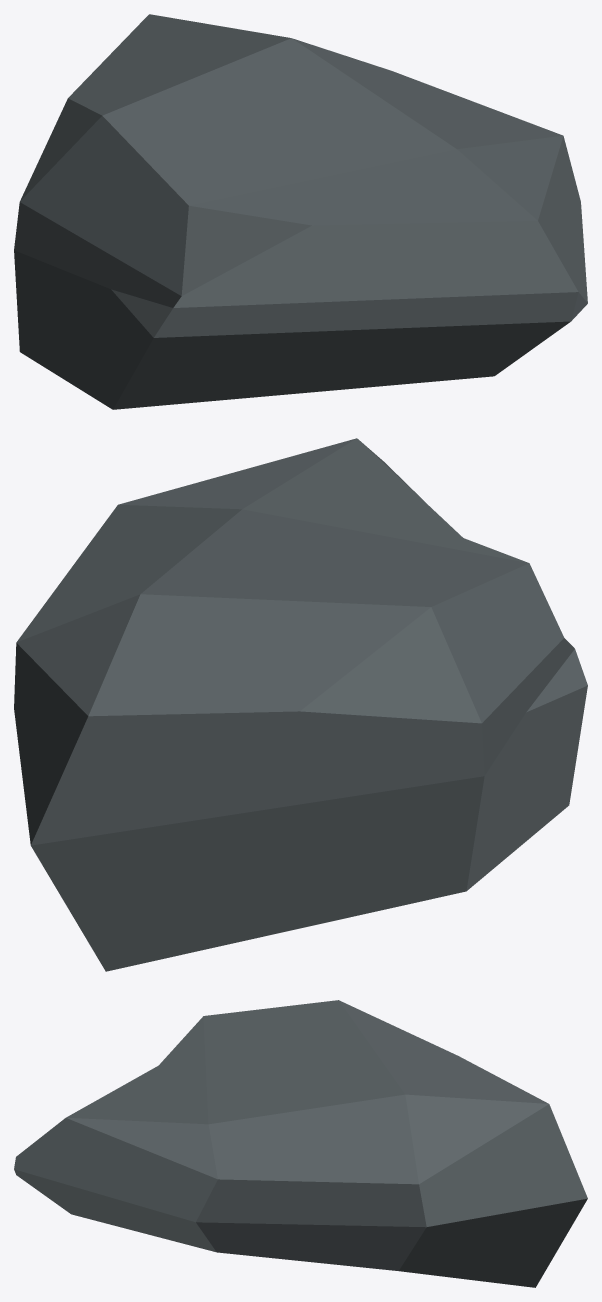
Rendered from Nugget2_Grey.fbx.
3 views of the same model, one above another, from view 1: azimuth 30°, elevation 25°; view 2: azimuth 150°, elevation 25°; view 3: azimuth 270°, elevation 25° (orthographic). The views are drawn at different scales.
Parts seen in each view (by area): view 1: Nugget2_Grey; view 2: Nugget2_Grey; view 3: Nugget2_Grey.
Part boxes in pixels (box(x1,y1,x2,y2)): Nugget2_Grey: box(14, 14, 587, 409); Nugget2_Grey: box(14, 438, 587, 971); Nugget2_Grey: box(14, 1000, 587, 1287).
Bounding box in the file's own units: 25.59 × 16.01 × 37.51.
